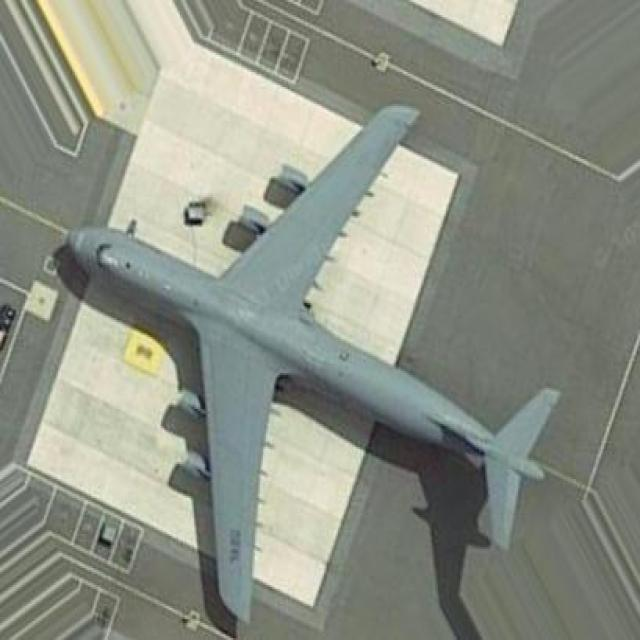C-5_TopDown: (46, 98, 564, 640)
